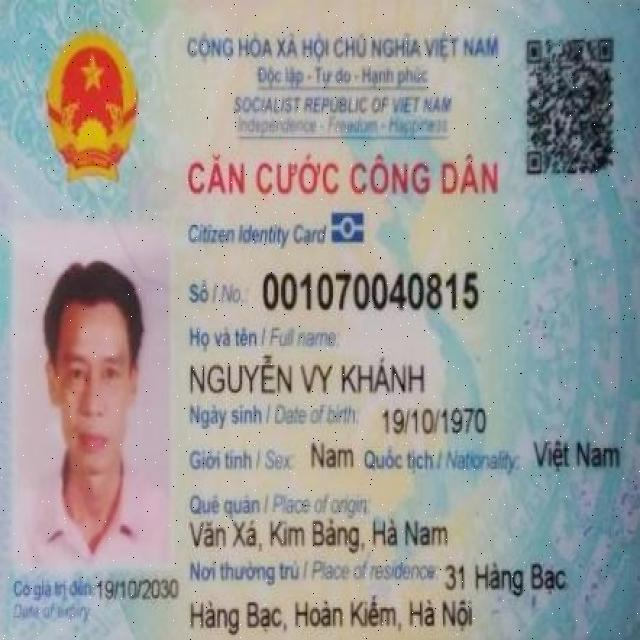current_place: (190, 596, 477, 634), (444, 561, 571, 599)
dob: (381, 405, 489, 439)
expire_date: (96, 575, 183, 604)
gender: (309, 442, 357, 471)
id: (261, 269, 479, 315)
name: (189, 352, 428, 396)
nationality: (530, 436, 623, 472)
origin_place: (189, 516, 450, 555)
